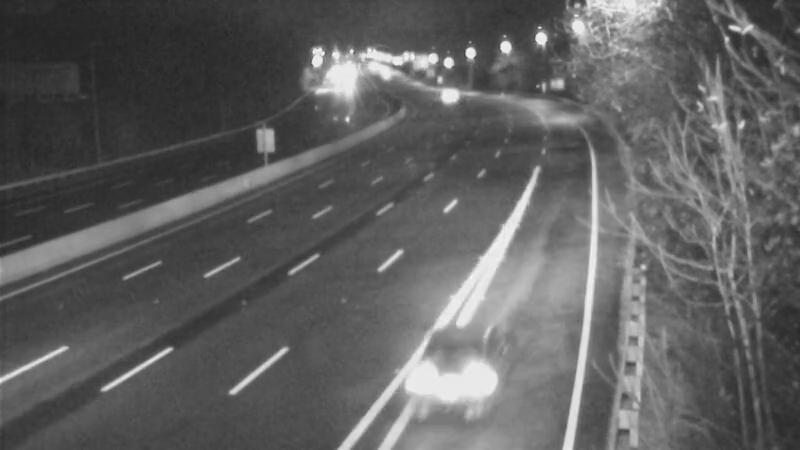vehicle: (389, 325, 499, 435), (419, 69, 469, 119)
